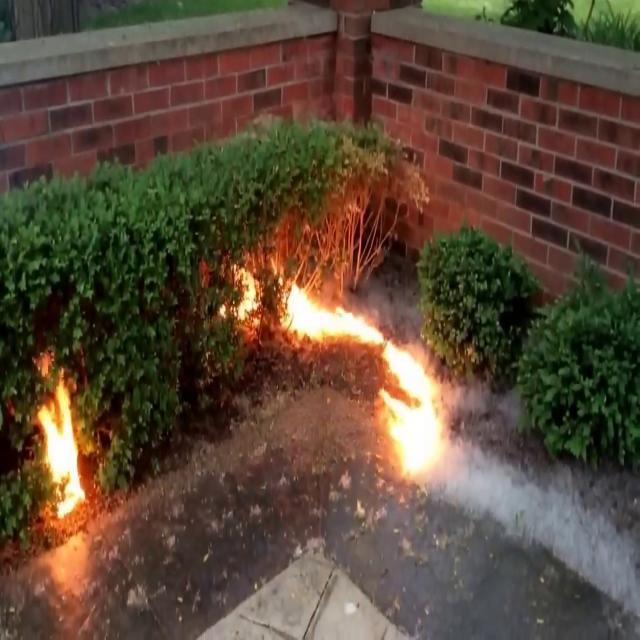Fire: (224, 248, 370, 348), (370, 332, 450, 479), (36, 370, 88, 516)
